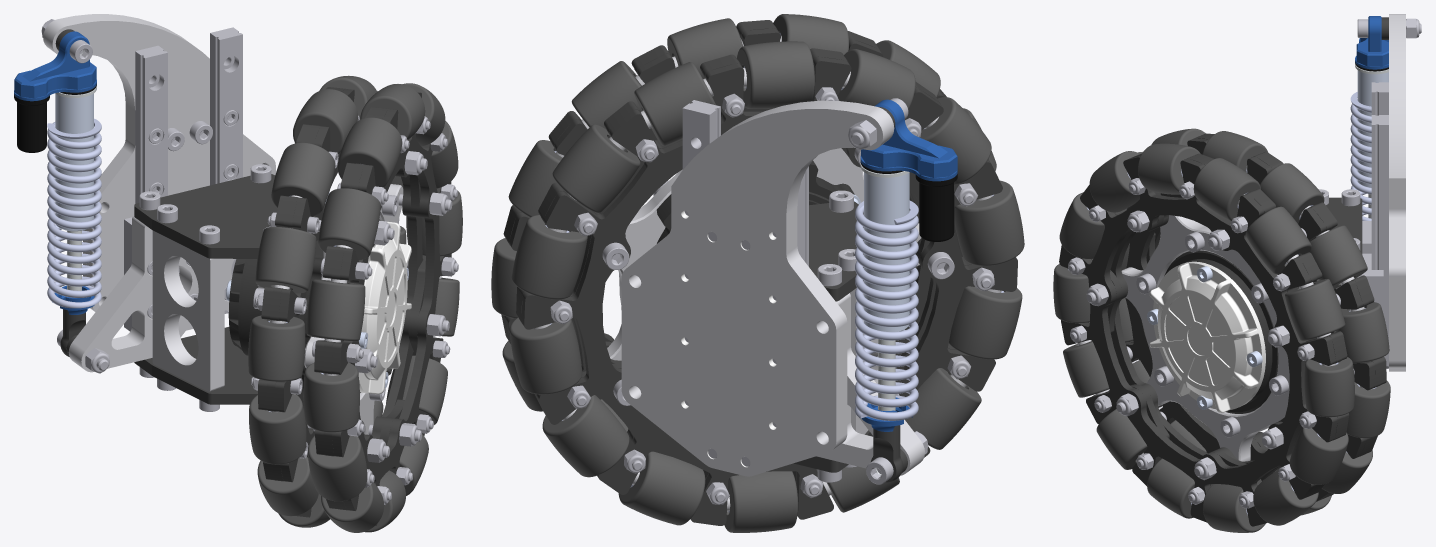
File: 2027,_Linear_Suspension_V3,_Assembly (1).glb
The picture shows the model from 3 angles, left to right: view 1: azimuth 30°, elevation 25°; view 2: azimuth 150°, elevation 25°; view 3: azimuth 270°, elevation 25°; orthographic projection. The views are drawn at different scales.
Visible parts, largest first — view 1: 2027, Linear Suspension V3, Mounting Plate-1, 2027, Linear Suspension V3, Standoff Plate-1, Xroll_3508Gearbox-1, 2027, Omni Wheel, Outer Plate-3, 2027, Linear Suspension V3, 9657K498 Spring-1, 2027, Linear Suspension V3, Bridge Plate-1, 2027, Linear Suspension V3, Carriage Plate-1, 2027, Linear Suspension V3, Linear Rail-2, 2027, Linear Suspension V3, Linear Rail-1, 2027, Omni Wheel, Outer Plate-2, 2027, Omni Wheel, Roller-7, 2027, Omni Wheel, Roller-22 (+33 smaller); view 2: 2027, Linear Suspension V3, Mounting Plate-1, 2027, Omni Wheel, Outer Plate-5, 2027, Linear Suspension V3, 9657K498 Spring-1, 2027, Omni Wheel, Roller-12, 2027, Omni Wheel, Roller-13, 2027, Omni Wheel, Roller-10, 2027, Omni Wheel, Roller-14, SuspensionSpring_110mm_Body-1, 2027, Omni Wheel, Roller-15, 2027, Omni Wheel, Roller-7, 2027, Omni Wheel, Roller-16, 2027, Omni Wheel, Roller-6 (+27 smaller); view 3: 2027, Omni Wheel, Outer Plate-3, Xroll_3508Gearbox-1, 2027, Omni Wheel, Hub-1, 2027, Linear Suspension V3, Mounting Plate-1, 2027, Omni Wheel, Outer Plate-4, 2027, Omni Wheel, Outer Plate-2, 2027, Linear Suspension V3, Linear Rail-2, 2027, Omni Wheel, Roller-25, 2027, Omni Wheel, Roller-27, 2027, Omni Wheel, Roller-26, 2027, Omni Wheel, Roller-24, 2027, Omni Wheel, Roller-28 (+25 smaller).
Boxes of the visible parts, box(x1,y1,x2,y2) form: 2027, Linear Suspension V3, Mounting Plate-1: box(43, 14, 275, 330); 2027, Linear Suspension V3, Standoff Plate-1: box(152, 230, 224, 391); Xroll_3508Gearbox-1: box(226, 192, 411, 396); 2027, Omni Wheel, Outer Plate-3: box(331, 92, 451, 525); 2027, Linear Suspension V3, 9657K498 Spring-1: box(47, 118, 101, 308); 2027, Linear Suspension V3, Bridge Plate-1: box(134, 174, 277, 258); 2027, Linear Suspension V3, Carriage Plate-1: box(68, 215, 234, 372); 2027, Linear Suspension V3, Linear Rail-2: box(210, 27, 242, 185); 2027, Linear Suspension V3, Linear Rail-1: box(135, 45, 167, 203); 2027, Omni Wheel, Outer Plate-2: box(314, 107, 425, 508); 2027, Omni Wheel, Roller-7: box(248, 315, 305, 381); 2027, Omni Wheel, Roller-22: box(318, 188, 380, 260); 2027, Linear Suspension V3, Mounting Plate-1: box(621, 100, 894, 476); 2027, Omni Wheel, Outer Plate-5: box(521, 57, 1017, 525); 2027, Linear Suspension V3, 9657K498 Spring-1: box(855, 200, 918, 420); 2027, Omni Wheel, Roller-12: box(552, 124, 640, 212); 2027, Omni Wheel, Roller-13: box(511, 215, 587, 299); 2027, Omni Wheel, Roller-10: box(737, 41, 814, 108); 2027, Omni Wheel, Roller-14: box(509, 317, 582, 394); SuspensionSpring_110mm_Body-1: box(860, 162, 909, 331); 2027, Omni Wheel, Roller-15: box(542, 395, 629, 477); 2027, Omni Wheel, Roller-7: box(954, 180, 1024, 265); 2027, Omni Wheel, Roller-16: box(618, 451, 705, 525); 2027, Omni Wheel, Roller-6: box(948, 286, 1022, 359); 2027, Omni Wheel, Outer Plate-3: box(1059, 155, 1337, 526); Xroll_3508Gearbox-1: box(1147, 250, 1298, 413); 2027, Omni Wheel, Hub-1: box(1121, 215, 1289, 461); 2027, Linear Suspension V3, Mounting Plate-1: box(1389, 14, 1405, 371); 2027, Omni Wheel, Outer Plate-4: box(1125, 138, 1375, 501); 2027, Omni Wheel, Outer Plate-2: box(1109, 153, 1349, 494); 2027, Linear Suspension V3, Linear Rail-2: box(1371, 115, 1388, 366); 2027, Omni Wheel, Roller-25: box(1245, 206, 1311, 273); 2027, Omni Wheel, Roller-27: box(1304, 357, 1354, 417); 2027, Omni Wheel, Roller-26: box(1285, 279, 1345, 341); 2027, Omni Wheel, Roller-24: box(1193, 158, 1260, 221); 2027, Omni Wheel, Roller-28: box(1289, 427, 1348, 484).
Size of the model in its own units: 0.1616 by 0.1717 by 0.1383.
